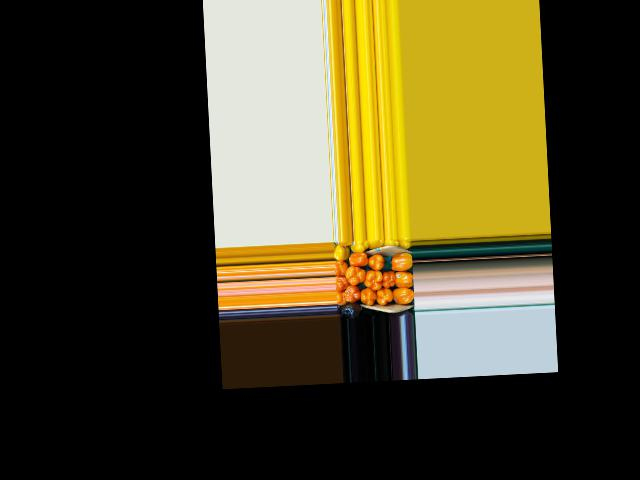bell_pepper: (349, 241, 371, 252)
